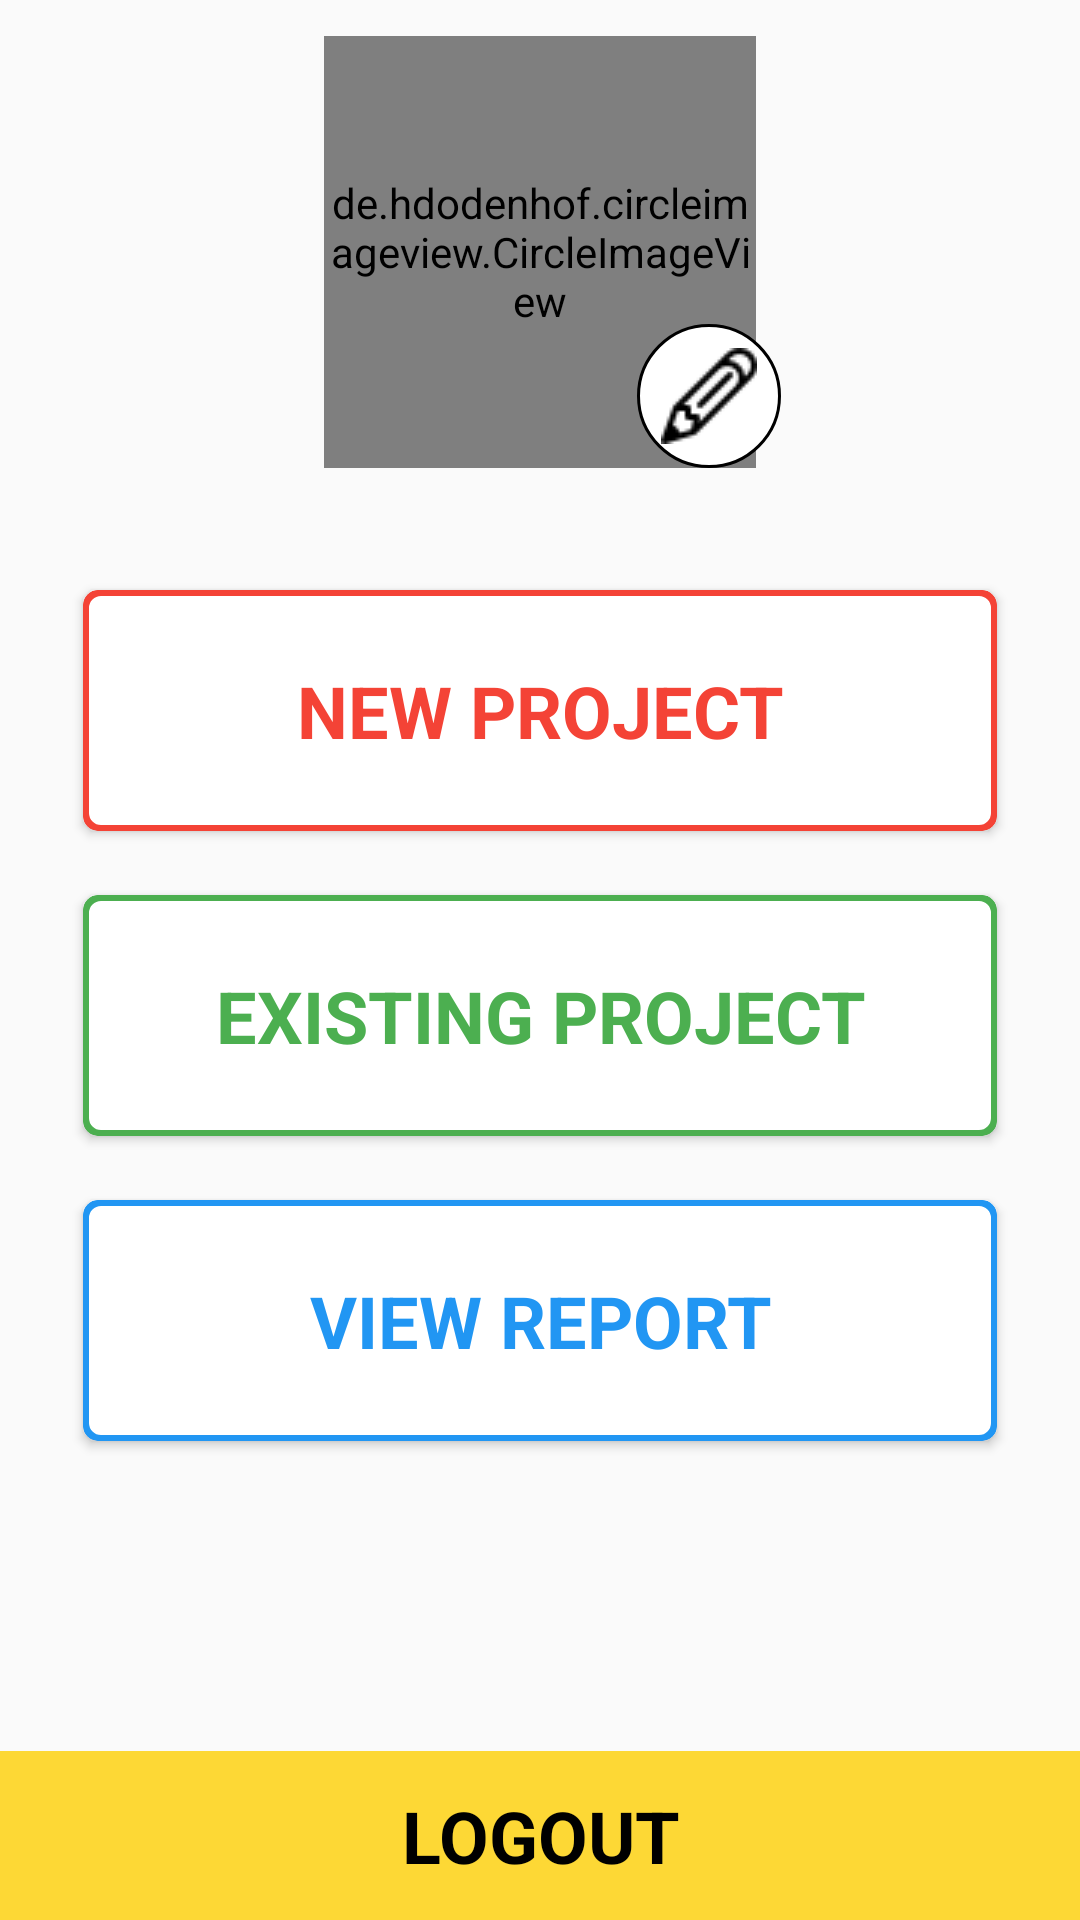

Screen size 1080*1920. Icon name, then its center in pixels as point (x, y):
edit: point (709, 396)
